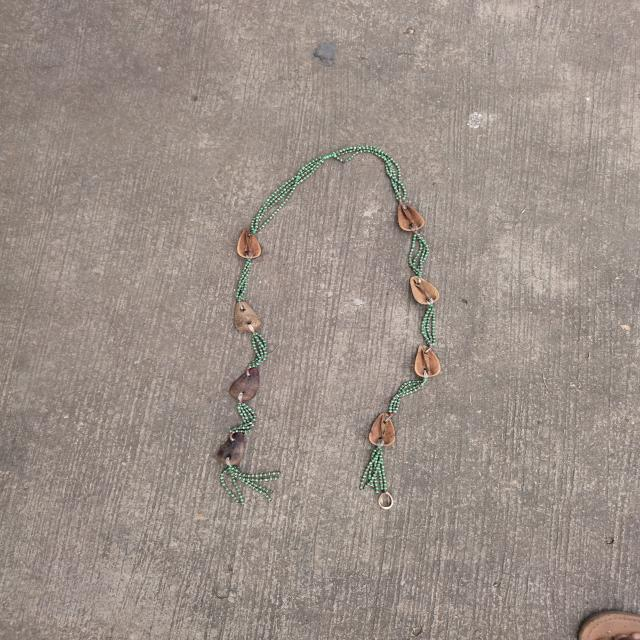facedown: (211, 424, 256, 474), (226, 296, 269, 338), (227, 362, 267, 406)
faceup: (227, 223, 270, 266), (406, 341, 450, 383), (401, 273, 449, 311), (387, 195, 430, 235), (365, 409, 402, 452)
